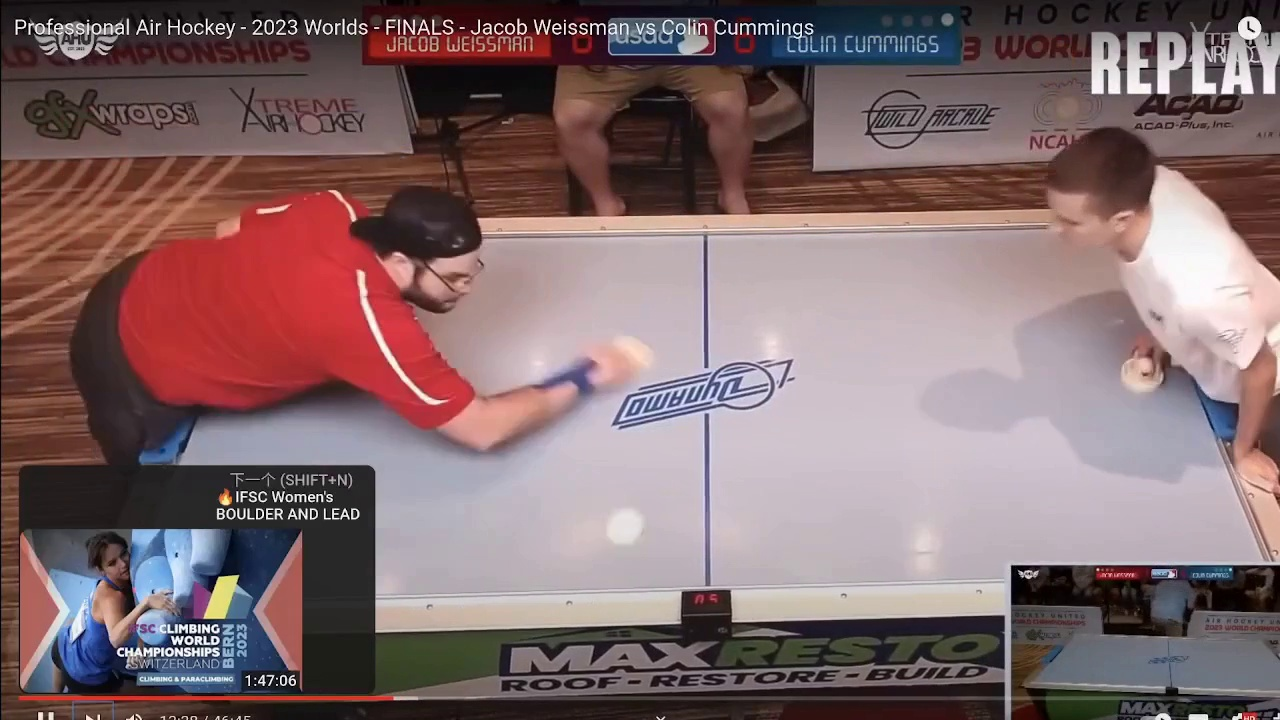player: (605, 335, 655, 378), (1119, 355, 1166, 393)
puck: (603, 505, 647, 549)
table: (396, 219, 1280, 554)
